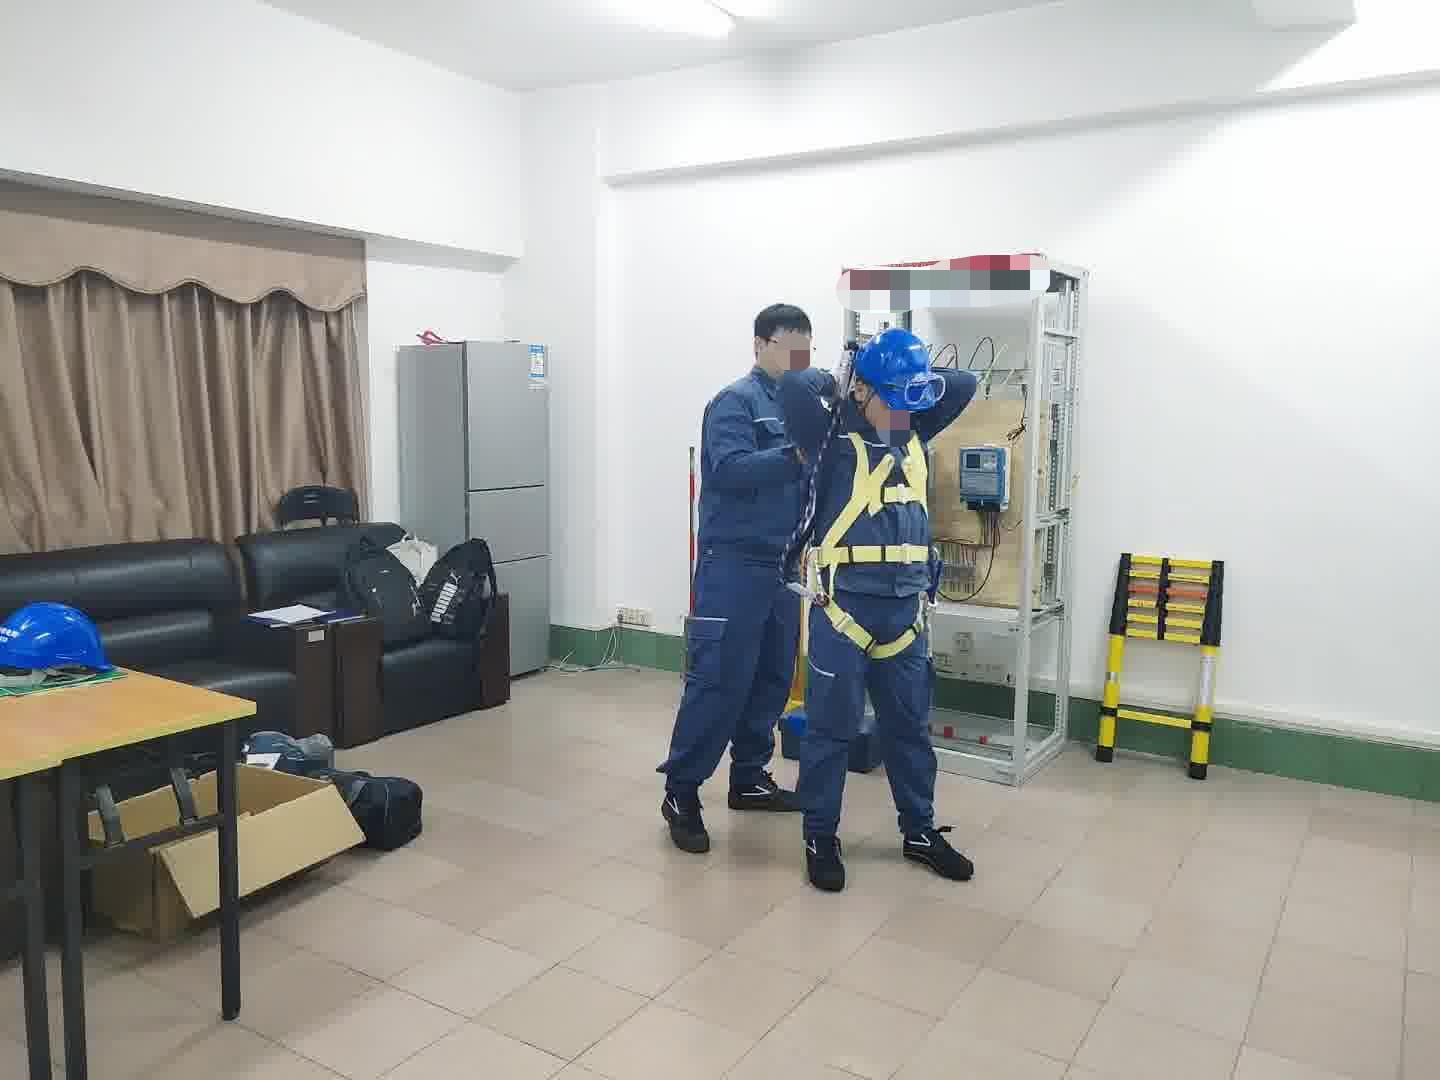halt: (855, 332, 939, 430)
unhalt: (749, 303, 818, 376)
